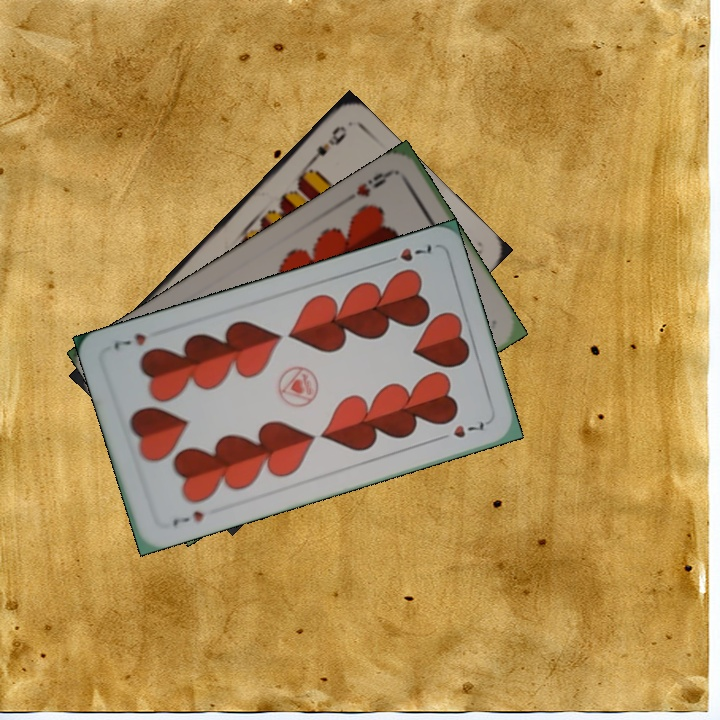E9: (303, 121, 350, 168)
H7: (379, 240, 435, 267), (168, 506, 207, 529)
H9: (352, 166, 396, 200)
